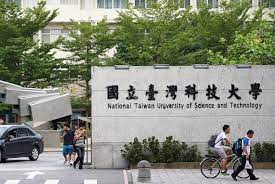car: (1, 118, 43, 164)
human: (235, 129, 262, 180), (58, 122, 73, 167), (75, 121, 86, 172)
word: (102, 80, 266, 117)
